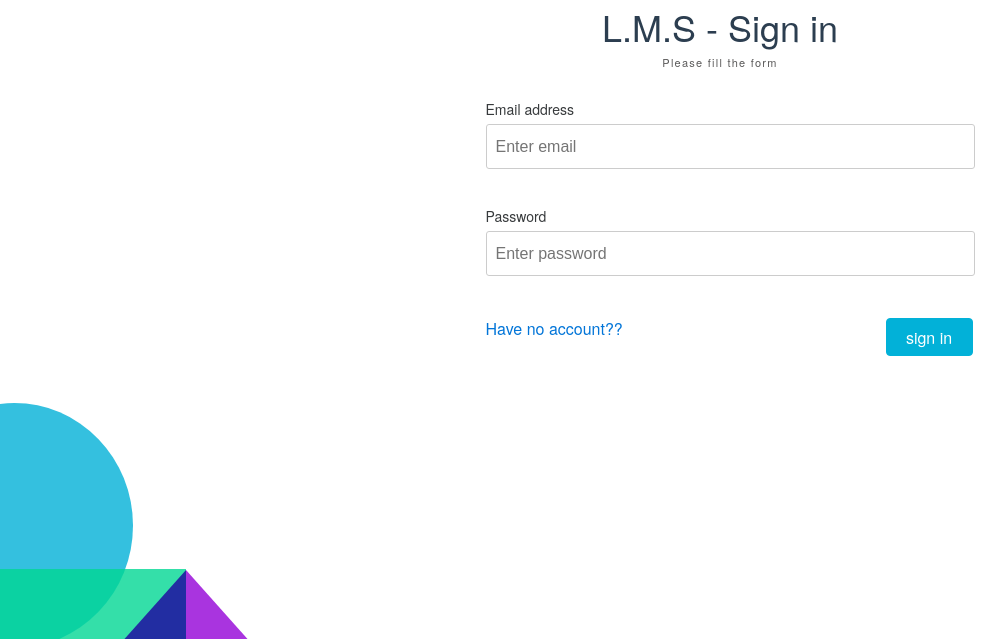
Test case:  › should show error on submit without providing password
This screenshot has width=992, height=639.
In the field labelled "email": (730, 147) top-left (496, 134), bottom-right (964, 159), type "octopusbn@gmail.com"
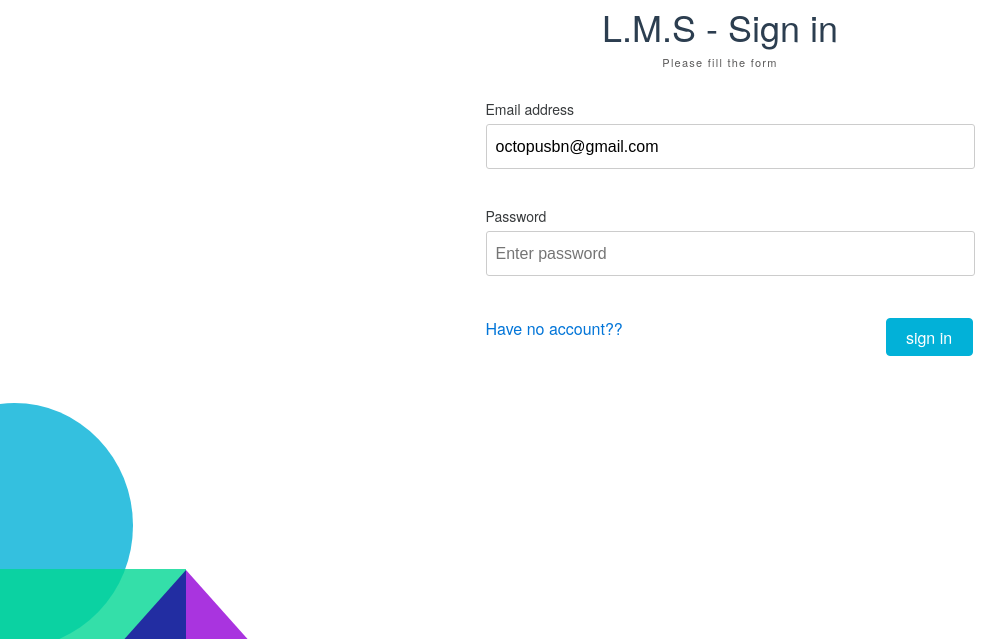
expect the password field labelled "password" is empty: met, box top-left (496, 241), bottom-right (964, 266)
Click the button with aria-label "submit": (929, 337) top-left (886, 318), bottom-right (972, 356)
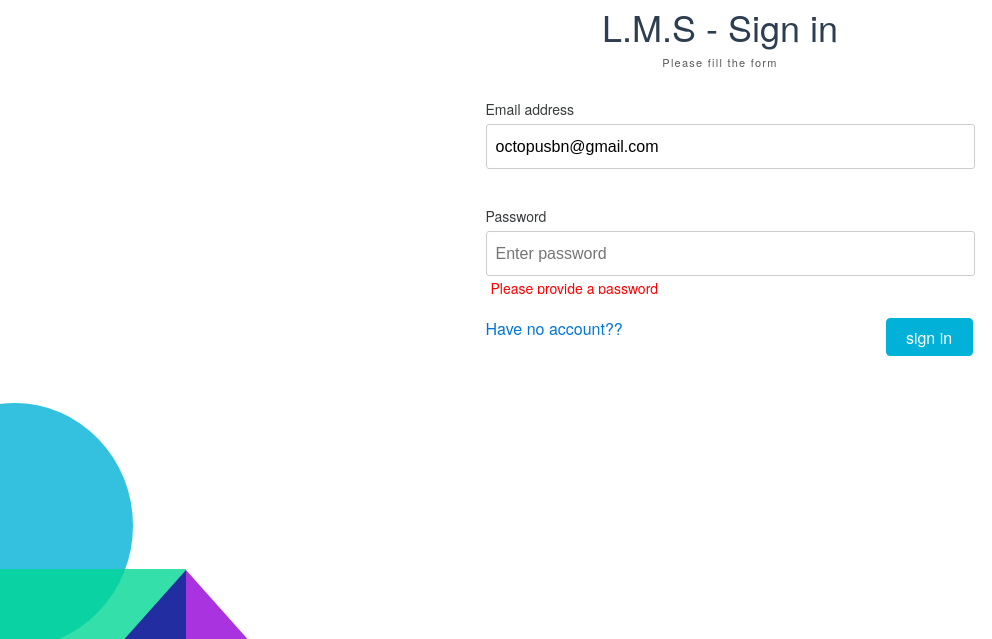
expect the text named "passwordError" reads "Please provide a password": met, box top-left (490, 278), bottom-right (658, 298)
